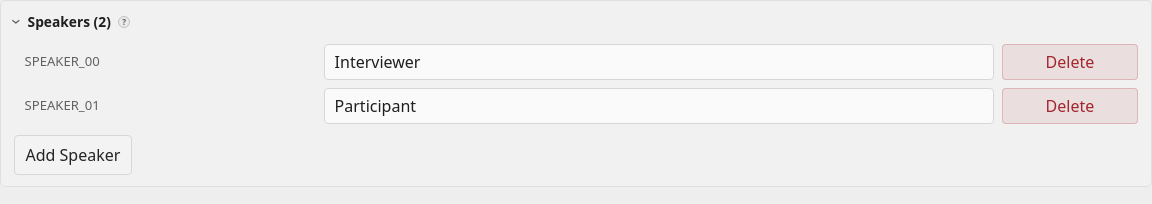
SpeakerPanel › uses an expanded accordion with explicit model-style delete actions
The width and height of the screenshot is (1152, 204).
Check: the button "Add Speaker" is shown, box [14,135,132,175]
Click the button with aria-label "Delete SPEAKER_00" at [1070, 62], box [1002,44,1138,80]
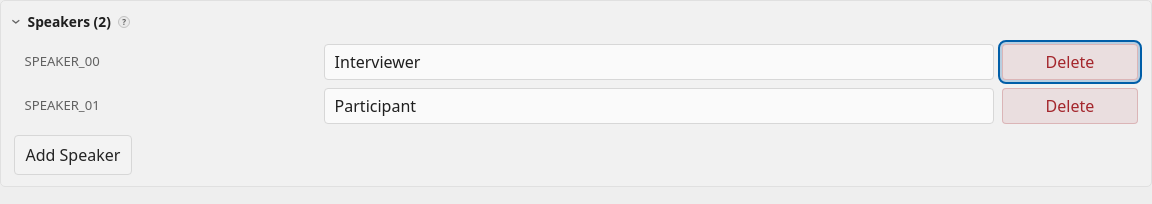
Click the button "› Speakers (2)" at [62, 22], box [14,12,111,32]
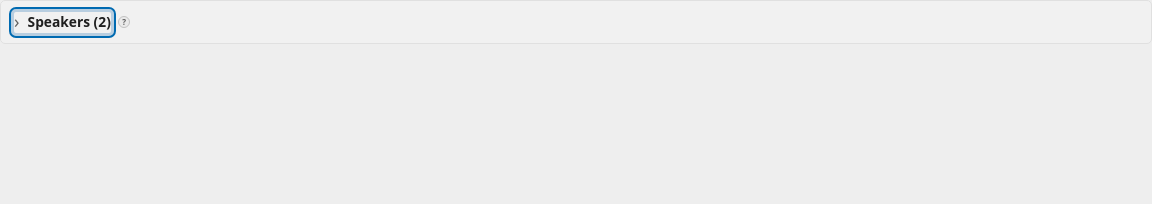
Check: the button "› Speakers (2)" is collapsed, box [14,12,111,32]
Check: the button "Add Speaker" is gone
